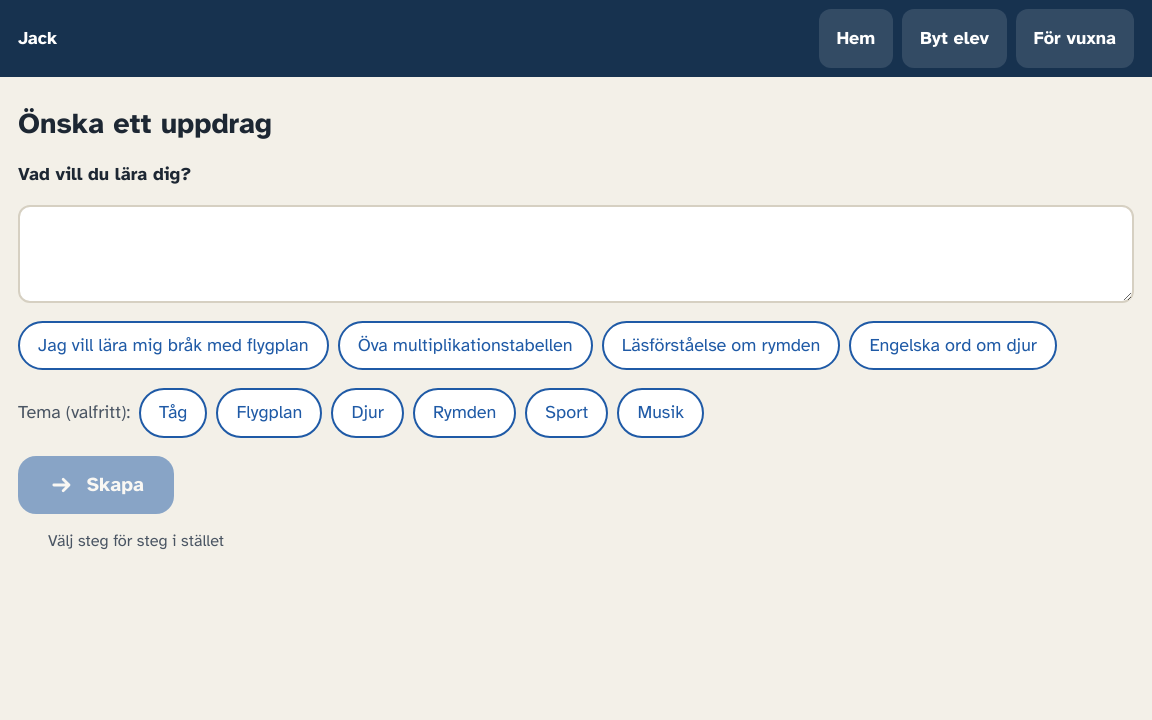
it: AI unavailable › a refused request shows only the calm message
This screenshot has width=1152, height=720.
Type "bråk" into the text box labelled "Vad vill du lära dig?" at x=576, y=254, box x1=18 y1=205 x2=1134 y2=303
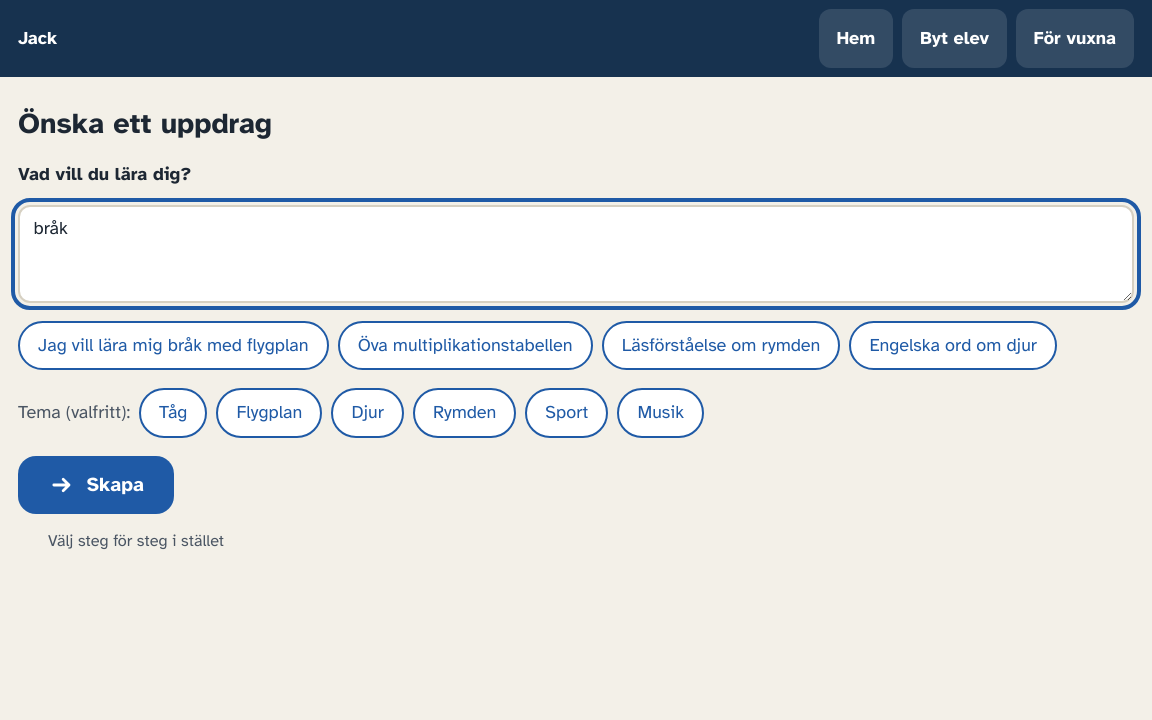
Click the button "Skapa" at x=96, y=485, box x1=18 y1=456 x2=174 y2=514
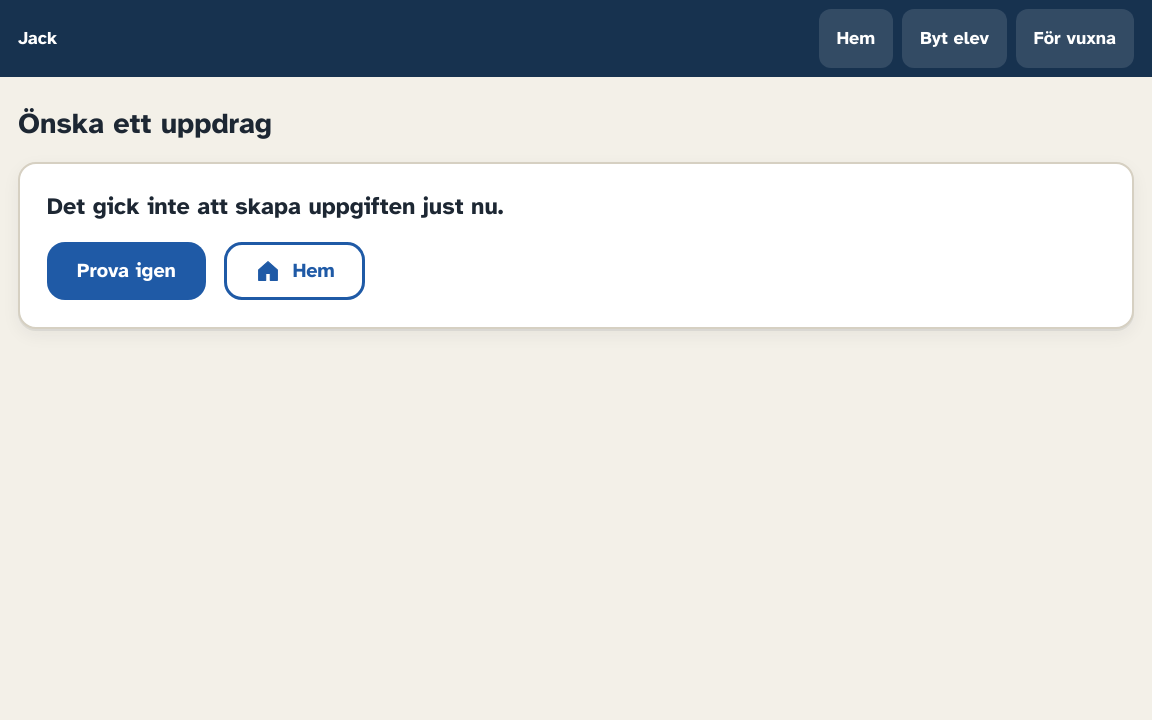
Expected: the text "Det gick inte att skapa uppgiften just nu." is shown, x1=47 y1=192 x2=503 y2=221
Click the button "Prova igen" at x=126, y=271, box x1=47 y1=242 x2=206 y2=300
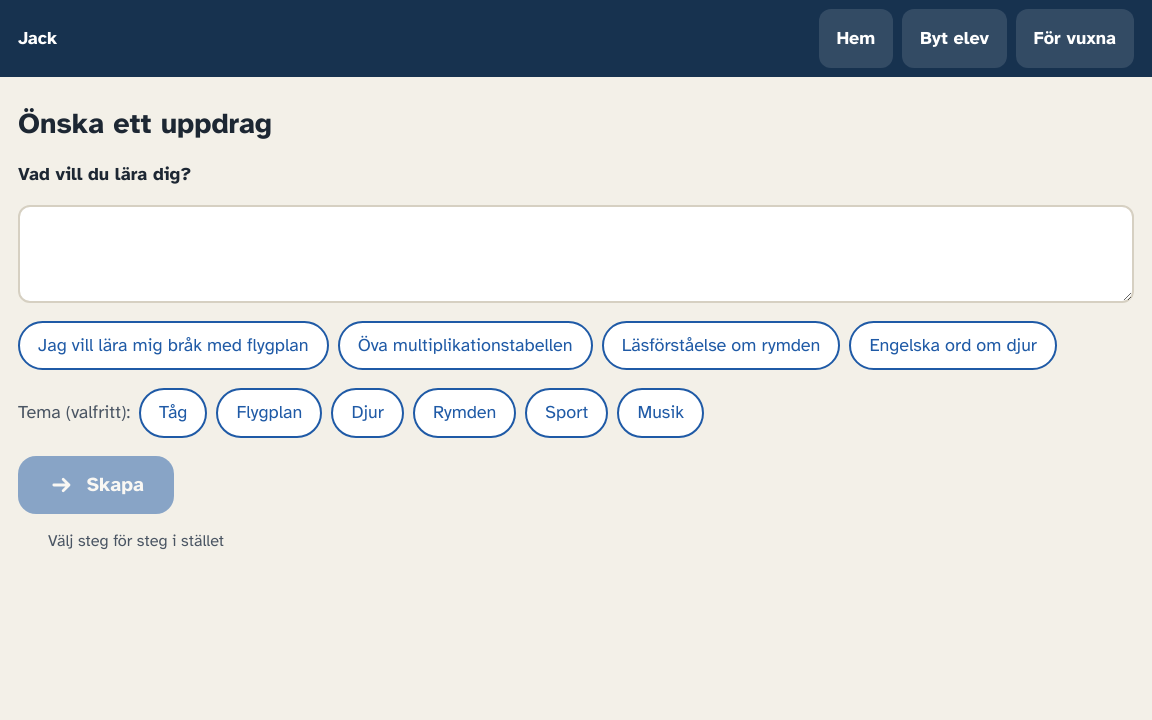
Expected: the text box labelled "Vad vill du lära dig?" is shown, x1=18 y1=205 x2=1134 y2=303
